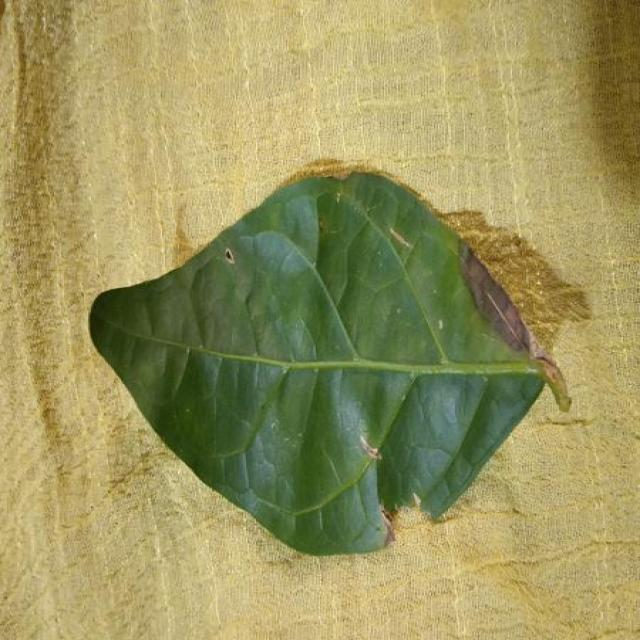Jasmine: (90, 174, 568, 554)
